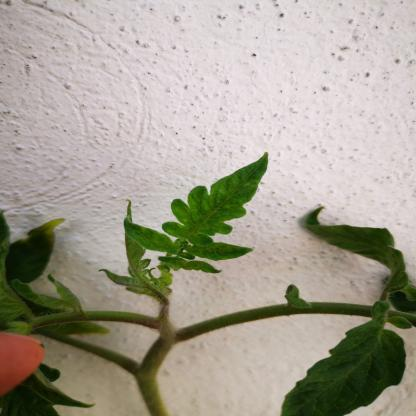T_L_R: (281, 302, 413, 416), (163, 153, 269, 248), (102, 235, 173, 302), (13, 275, 87, 315), (124, 216, 185, 255), (185, 243, 254, 262)
T_S_R: (178, 303, 373, 343), (34, 312, 161, 330)
